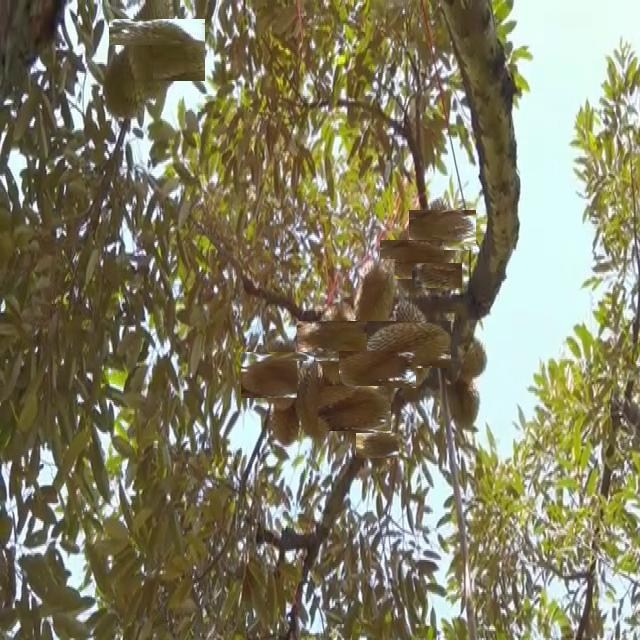durian: (117, 11, 197, 90), (377, 312, 442, 378), (102, 45, 153, 122), (305, 313, 367, 374), (248, 344, 308, 405), (325, 379, 384, 439), (348, 341, 406, 398), (354, 259, 395, 335), (297, 361, 334, 445), (415, 202, 470, 257), (386, 233, 438, 286), (438, 376, 482, 431), (267, 404, 304, 452), (421, 304, 449, 358), (418, 256, 456, 294), (456, 334, 491, 374), (360, 429, 395, 463)
